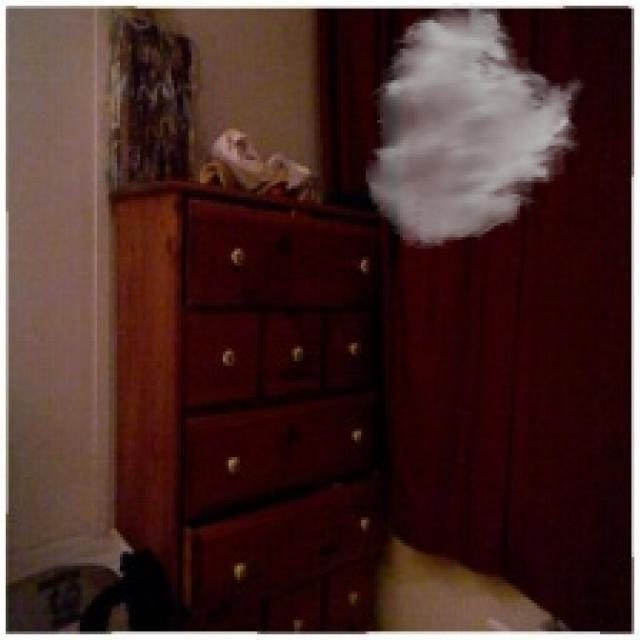Smoke: (363, 0, 587, 252)
